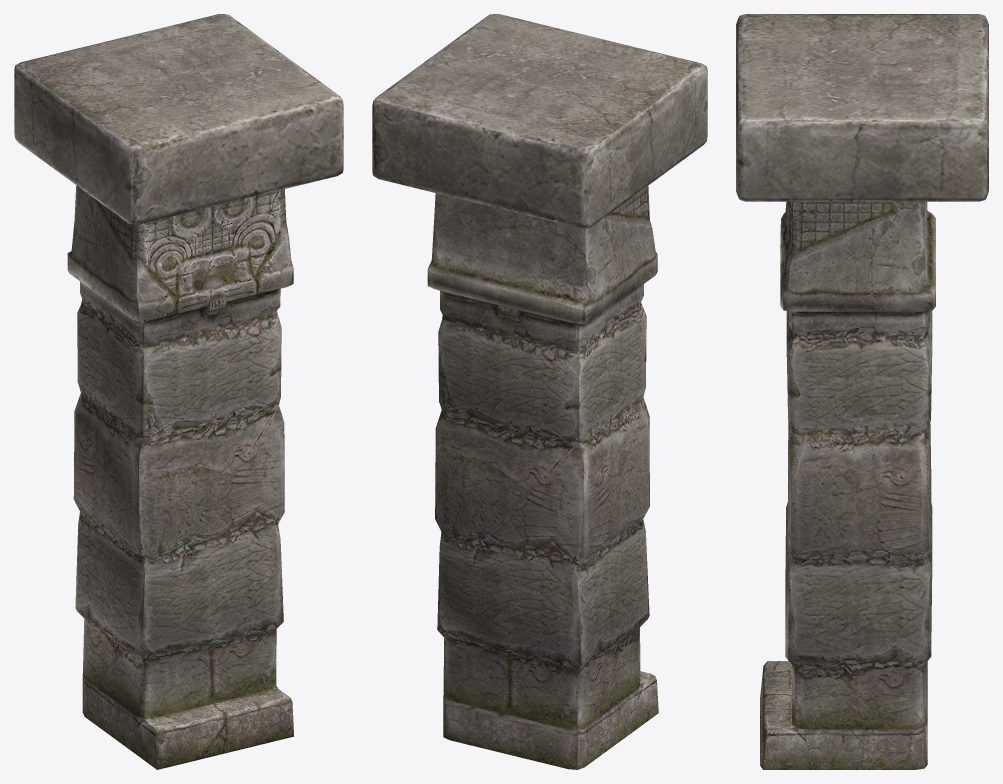
File: BigHanger.fbx
The picture shows the model from 3 angles, left to right: view 1: azimuth 30°, elevation 25°; view 2: azimuth 150°, elevation 25°; view 3: azimuth 270°, elevation 25°; orthographic projection. The views are drawn at different scales.
Parts seen in each view (by area): view 1: LV_AncientTower_Object_BigHanger01_SM_NWCVCT; view 2: LV_AncientTower_Object_BigHanger01_SM_NWCVCT; view 3: LV_AncientTower_Object_BigHanger01_SM_NWCVCT.
Part boxes in pixels (x1,y1,x2,y2): LV_AncientTower_Object_BigHanger01_SM_NWCVCT: (14,14,343,769); LV_AncientTower_Object_BigHanger01_SM_NWCVCT: (372,14,707,769); LV_AncientTower_Object_BigHanger01_SM_NWCVCT: (736,14,988,769).
Bounding box in the file's own units: 0.9353 × 2.66 × 0.9102.
1 material, 1 textured.
